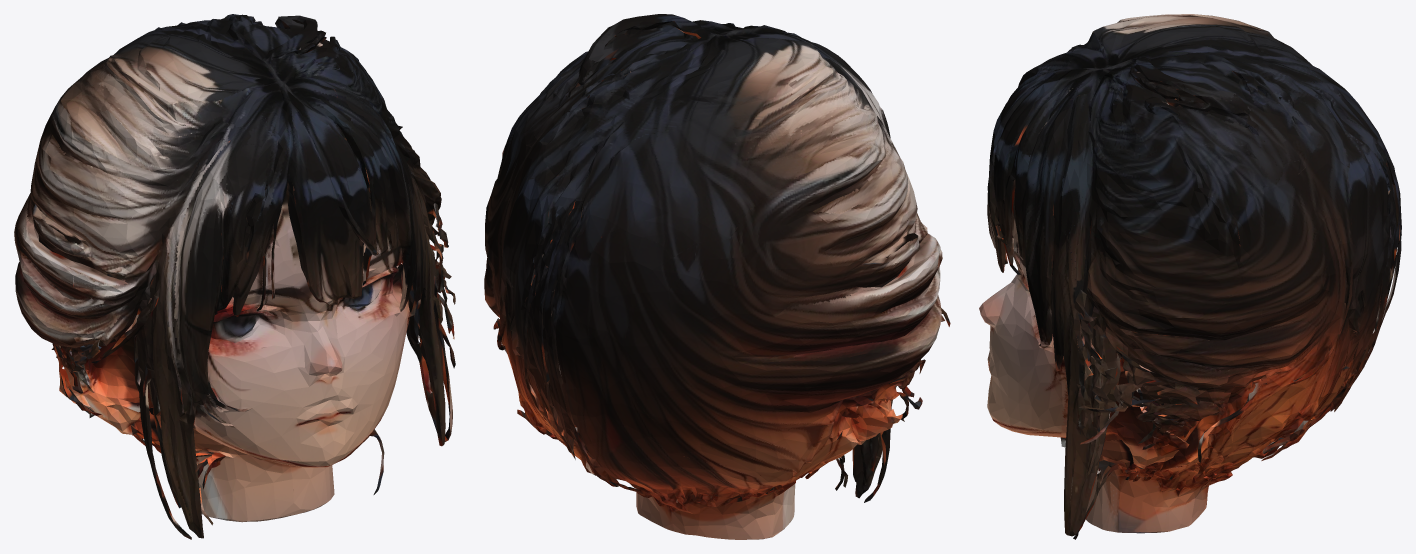
The model's file is traveler_head_side_eriko_00001_.glb.
3 views of the same model, side by side, from view 1: azimuth 30°, elevation 25°; view 2: azimuth 150°, elevation 25°; view 3: azimuth 270°, elevation 25° (orthographic). The views are drawn at different scales.
Parts seen in each view (by area): view 1: temp_mesh.ply; view 2: temp_mesh.ply; view 3: temp_mesh.ply.
Part boxes in pixels (x1=…): temp_mesh.ply: x1=14, y1=14, x2=455, y2=539; temp_mesh.ply: x1=484, y1=14, x2=950, y2=539; temp_mesh.ply: x1=979, y1=14, x2=1401, y2=539.
Bounding box in the file's own units: 1.83 × 1.97 × 1.65.
Materials: 1 (1 with a texture image).
